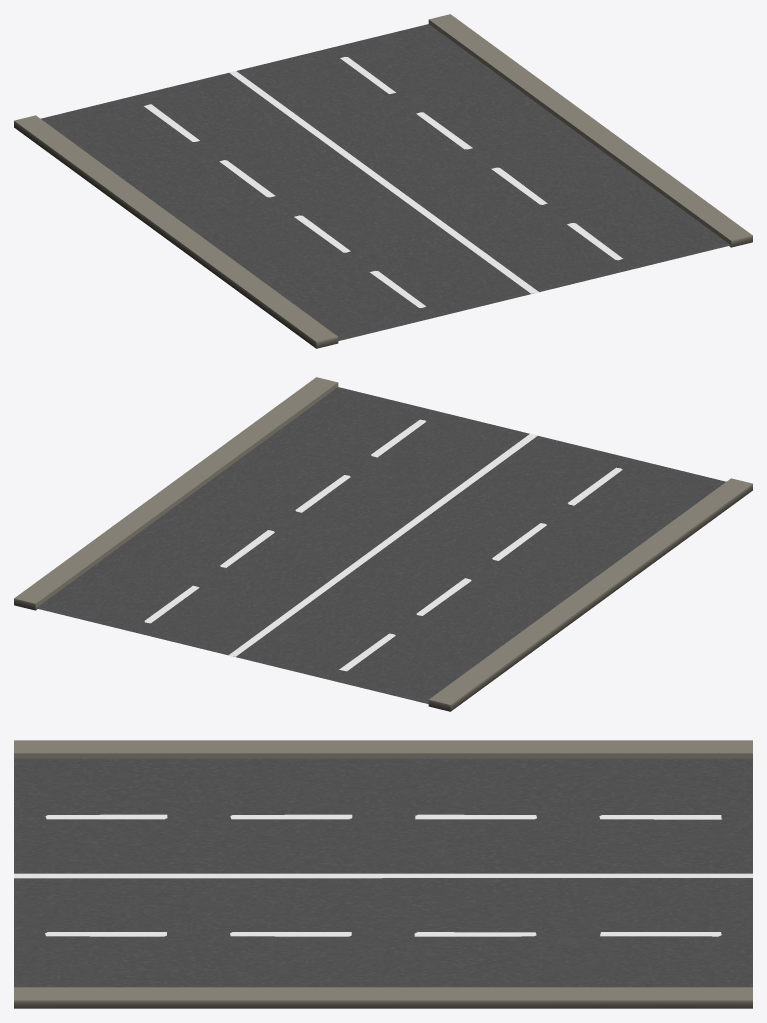
3 renders of one model, top to bottom at view 1: azimuth 30°, elevation 25°; view 2: azimuth 150°, elevation 25°; view 3: azimuth 270°, elevation 25°, orthographic. The views are drawn at different scales.
Visible parts, largest first — view 1: Road_1O; view 2: Road_1O; view 3: Road_1O.
Part boxes in pixels (box(x1,y1,x2,y2)): Road_1O: box(14, 14, 752, 348); Road_1O: box(14, 377, 752, 711); Road_1O: box(14, 740, 752, 1008).
Size of the model in its own units: 24915 by 374 by 29898.
